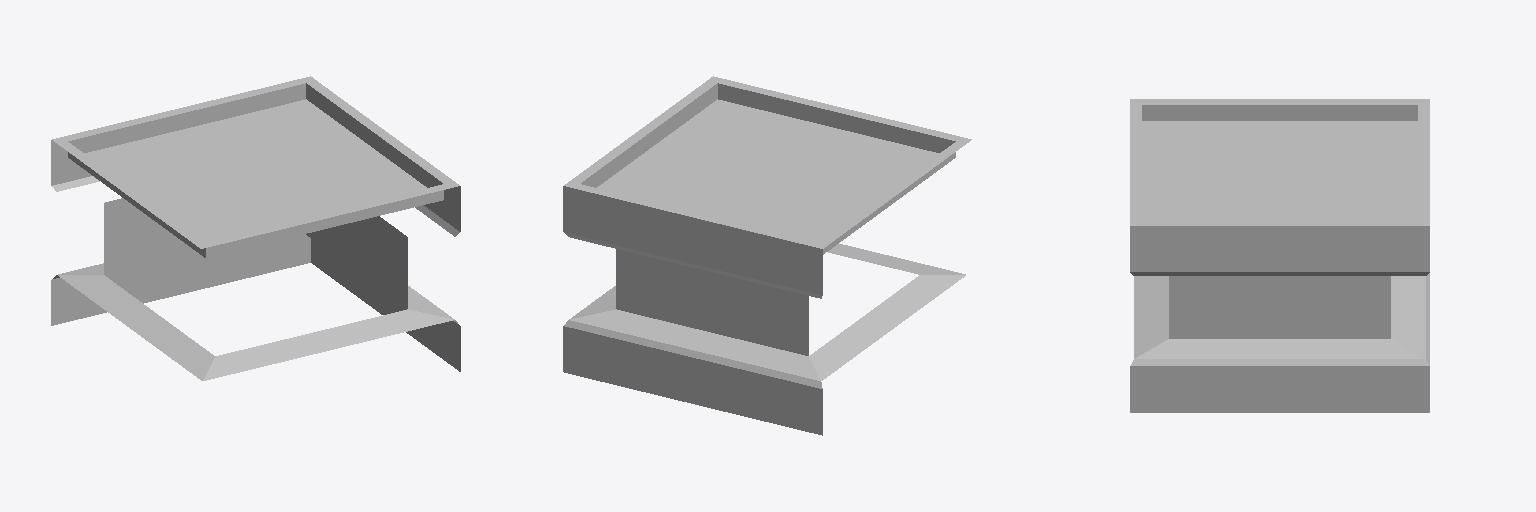
Rendered from JC_ModPanels_MainTile_I.obj.
3 renders of one model, left to right at view 1: azimuth 30°, elevation 25°; view 2: azimuth 150°, elevation 25°; view 3: azimuth 270°, elevation 25°, orthographic.
Parts seen in each view (by area): view 1: JC_ModPanels_MainTile_I; view 2: JC_ModPanels_MainTile_I; view 3: JC_ModPanels_MainTile_I.
Part boxes in pixels (left/top/right/bottom): JC_ModPanels_MainTile_I: left=51, top=76, right=460, bottom=380; JC_ModPanels_MainTile_I: left=563, top=76, right=971, bottom=435; JC_ModPanels_MainTile_I: left=1130, top=99, right=1429, bottom=412.
Size of the model in its own units: 200 by 137 by 200.